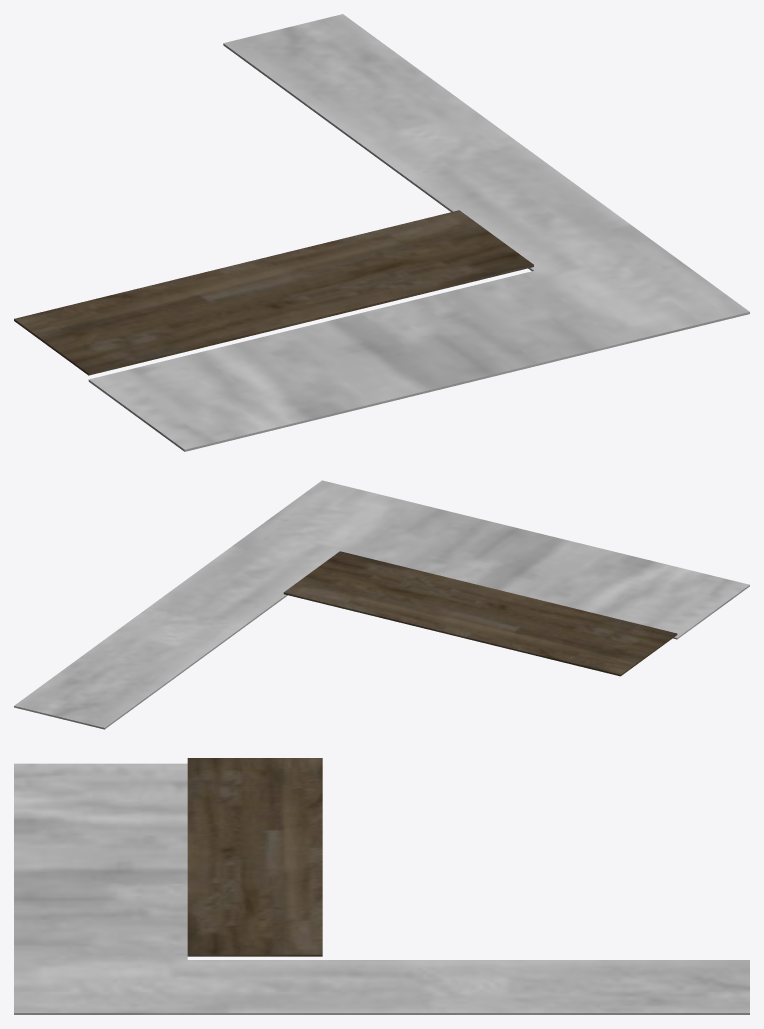
Rendered from Roof.fbx.
3 views of the same model, one above another, from view 1: azimuth 30°, elevation 25°; view 2: azimuth 150°, elevation 25°; view 3: azimuth 270°, elevation 25° (orthographic). The views are drawn at different scales.
Parts seen in each view (by area): view 1: Model; view 2: Model; view 3: Model.
Part boxes in pixels (x1,y1,x2,y2): Model: (14, 14, 749, 451); Model: (14, 480, 749, 729); Model: (14, 758, 749, 1014).
Size of the model in its own units: 3859 by 52.93 by 4813.
